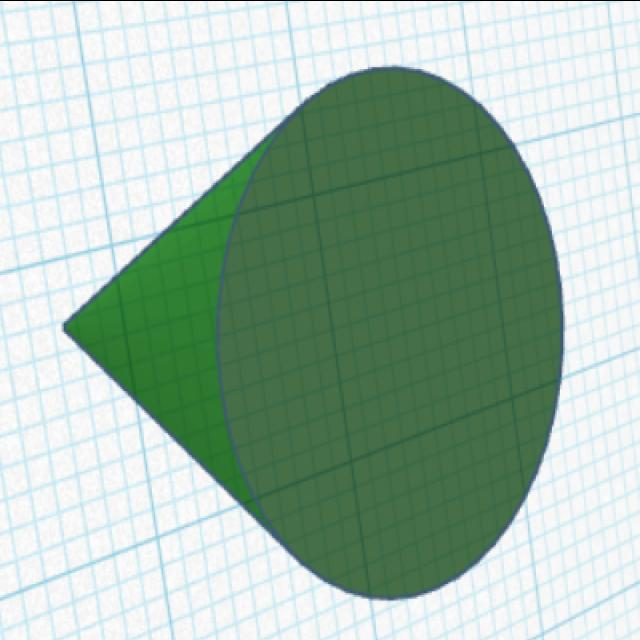cone: (54, 59, 568, 606)
